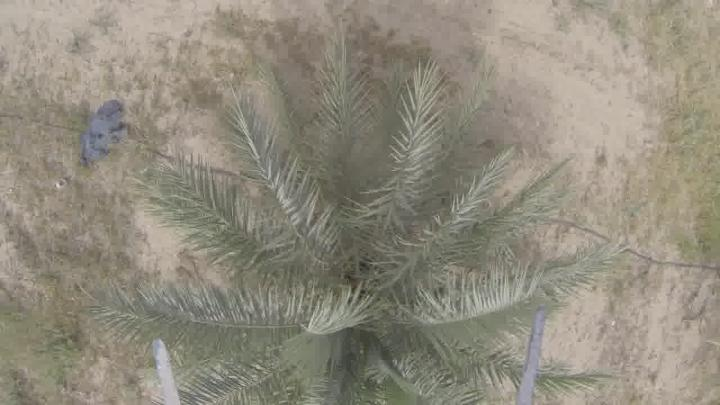Date-Palm-Crown: (193, 141, 513, 405)
